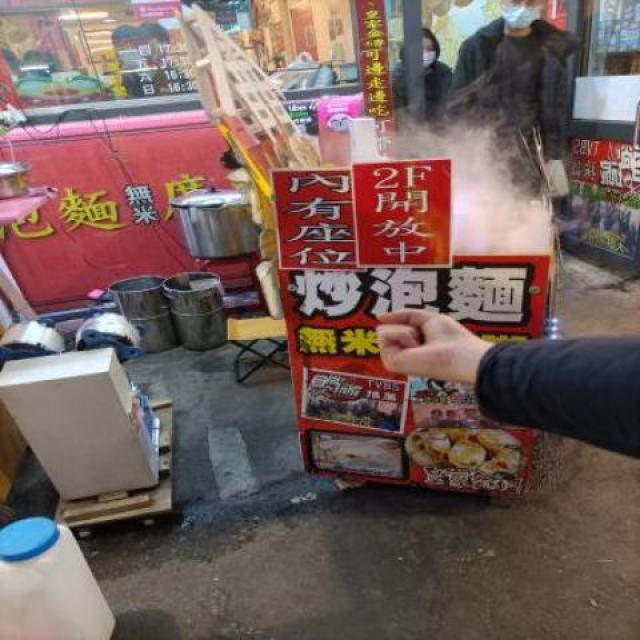Closed Hand: (366, 288, 499, 416)
